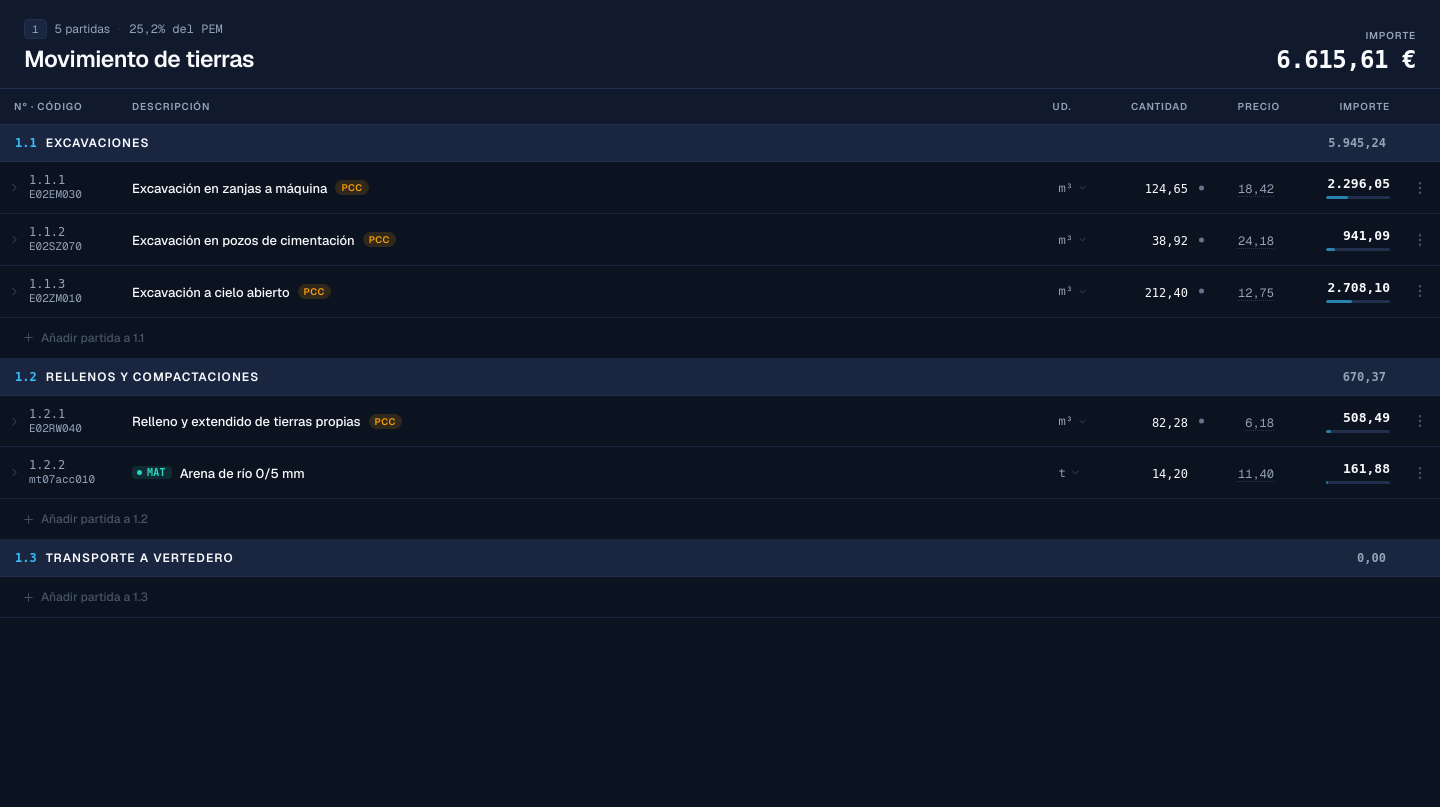
Test: calidad en el presupuesto › con plan: chip en las partidas asignadas y el editor en la pestaña «Calidad»
Expected: the text titled "Plan de control de calidad: por revisar" next to "Excavación en zanjas a máquina" is shown, [336,180,369,195]
Click the text "E02EM030" at [55, 195], box [29,188,82,202]
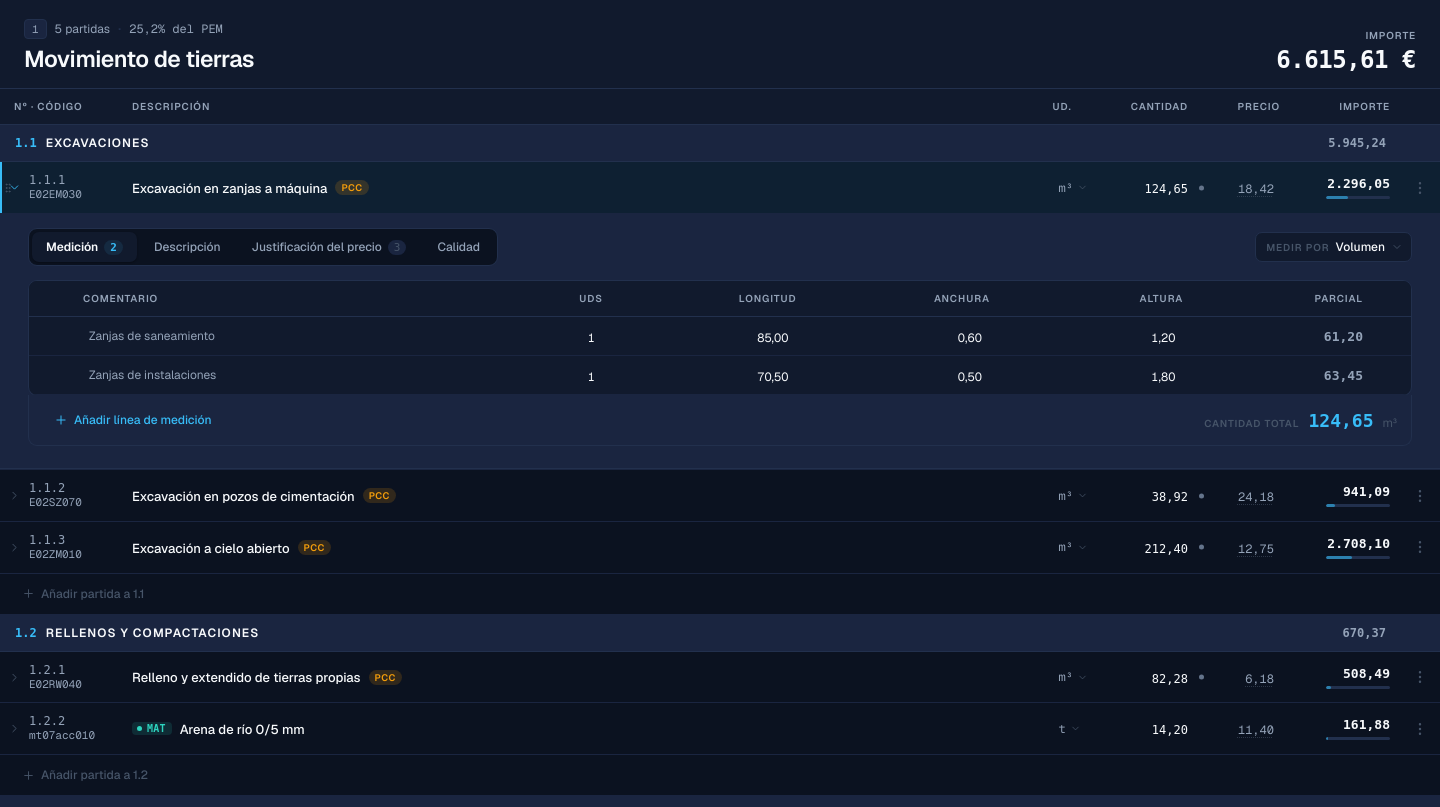
Click the button "Calidad" at [459, 247], box [424,232,494,262]
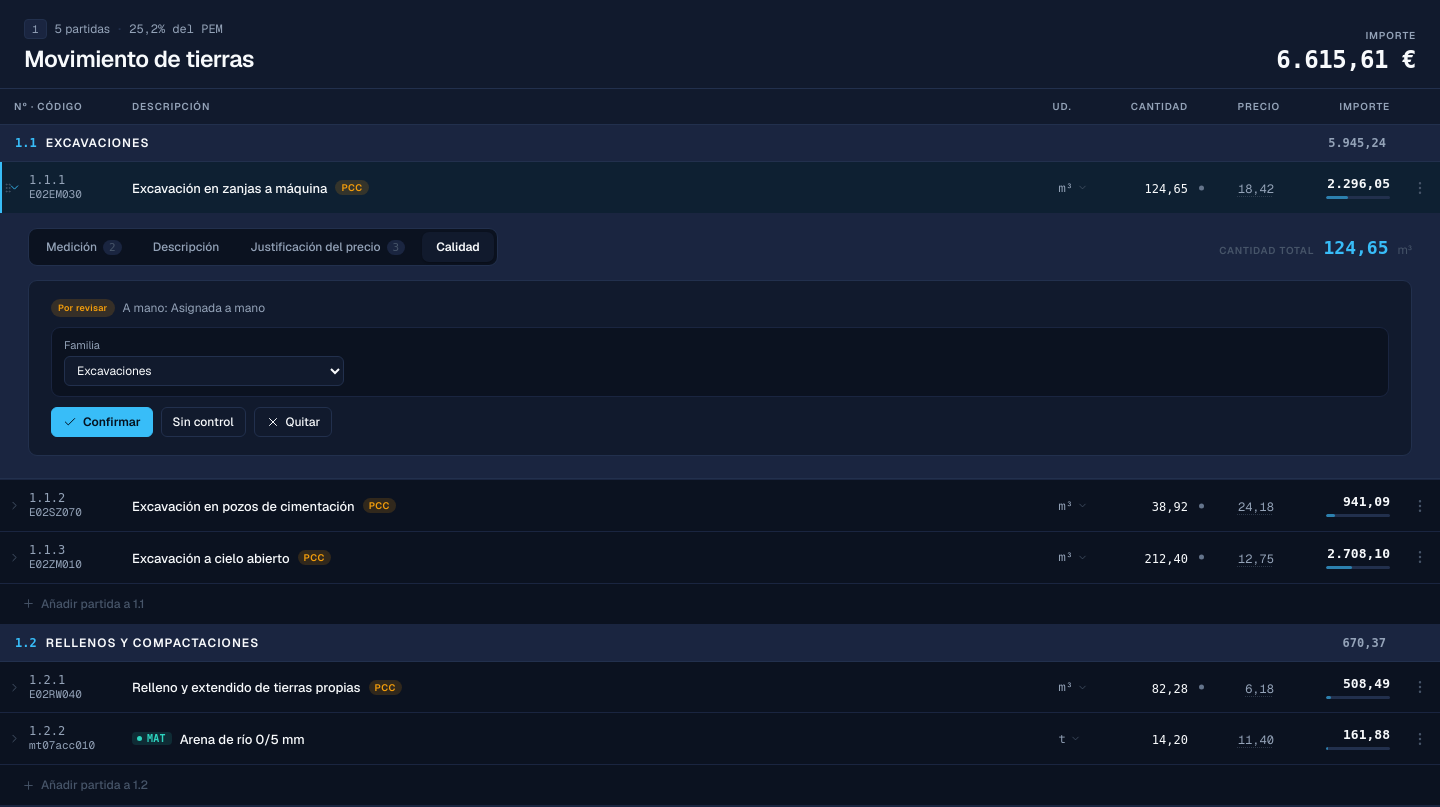
Expected: the text "A mano: Asignada a mano" is shown, [123,300,265,316]
